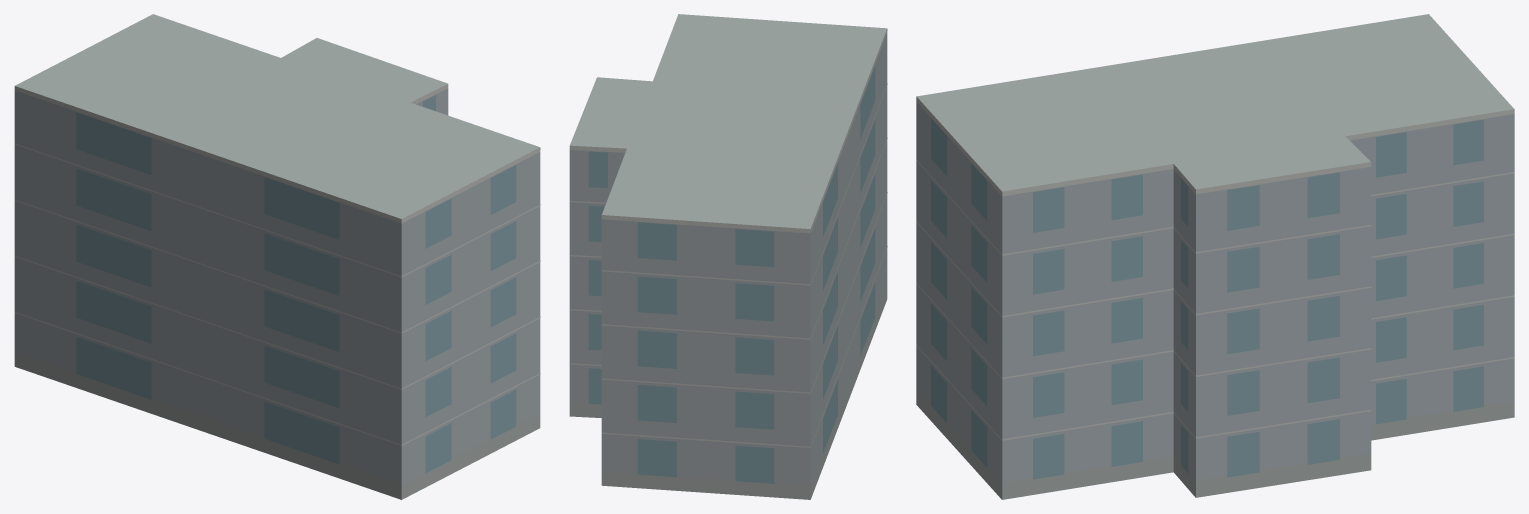
The model's file is residential-03a3fc4c-c32e-4170-8e97-f111841618e9.glb.
The picture shows the model from 3 angles, left to right: view 1: azimuth 30°, elevation 25°; view 2: azimuth 150°, elevation 25°; view 3: azimuth 270°, elevation 25°; orthographic projection. The views are drawn at different scales.
Parts seen in each view (by area): view 1: residential-03a3fc4c-c32e-4170-8e97-f111841618e9.tmp; view 2: residential-03a3fc4c-c32e-4170-8e97-f111841618e9.tmp; view 3: residential-03a3fc4c-c32e-4170-8e97-f111841618e9.tmp.
Boxes of the visible parts, x1,y1,x2,y2 form: residential-03a3fc4c-c32e-4170-8e97-f111841618e9.tmp: (14, 14, 540, 499); residential-03a3fc4c-c32e-4170-8e97-f111841618e9.tmp: (569, 14, 887, 499); residential-03a3fc4c-c32e-4170-8e97-f111841618e9.tmp: (916, 14, 1514, 499).
Bounding box in the file's own units: 18.86 × 15.25 × 26.83.
